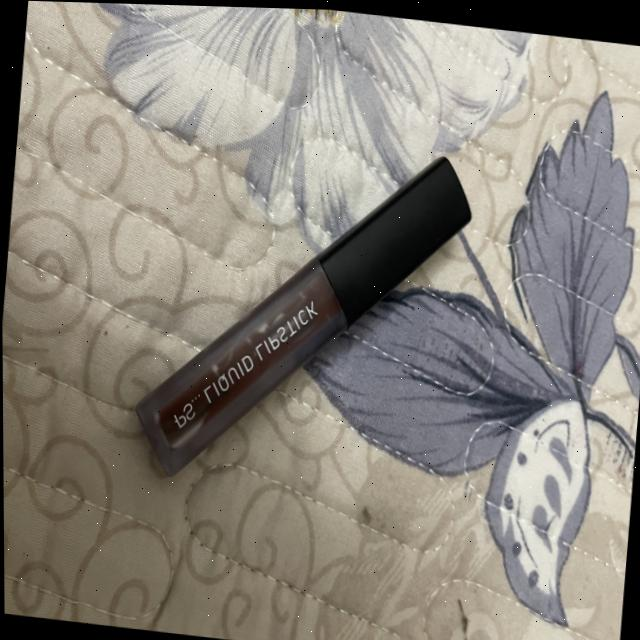lip gloss: (125, 96, 486, 528)
